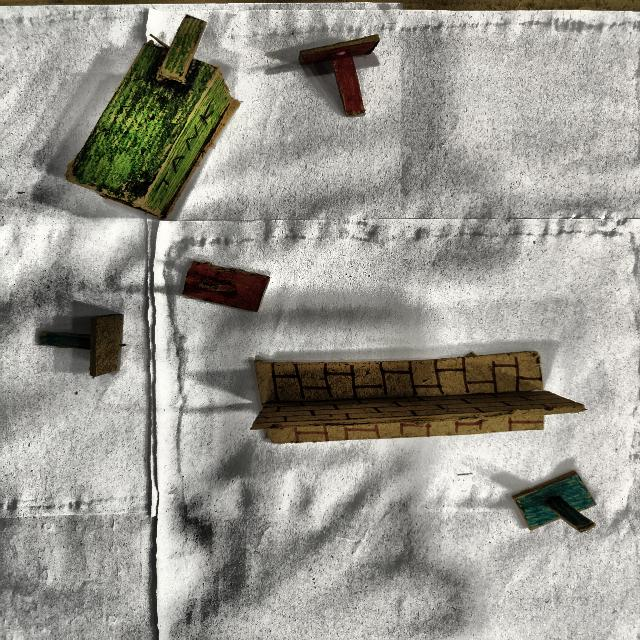Dead soldier -enemy-: (293, 31, 384, 124)
Dead soldier -frd-: (35, 313, 126, 380)
Tank: (62, 15, 236, 221)
Wall: (251, 351, 585, 446)
enemy: (179, 260, 270, 315)
friend: (512, 469, 599, 536)
